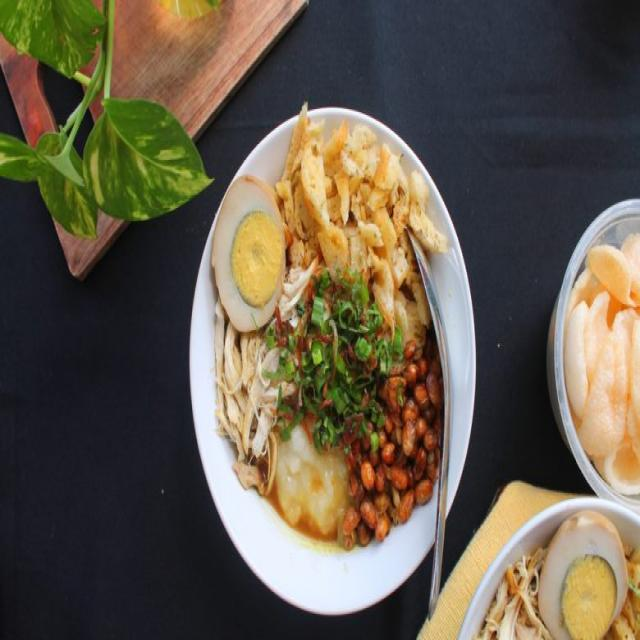bubur ayam: (216, 120, 454, 550)
mangkuk: (188, 106, 478, 617), (546, 198, 640, 516), (458, 496, 640, 634)
telur rebus: (210, 173, 288, 337)
